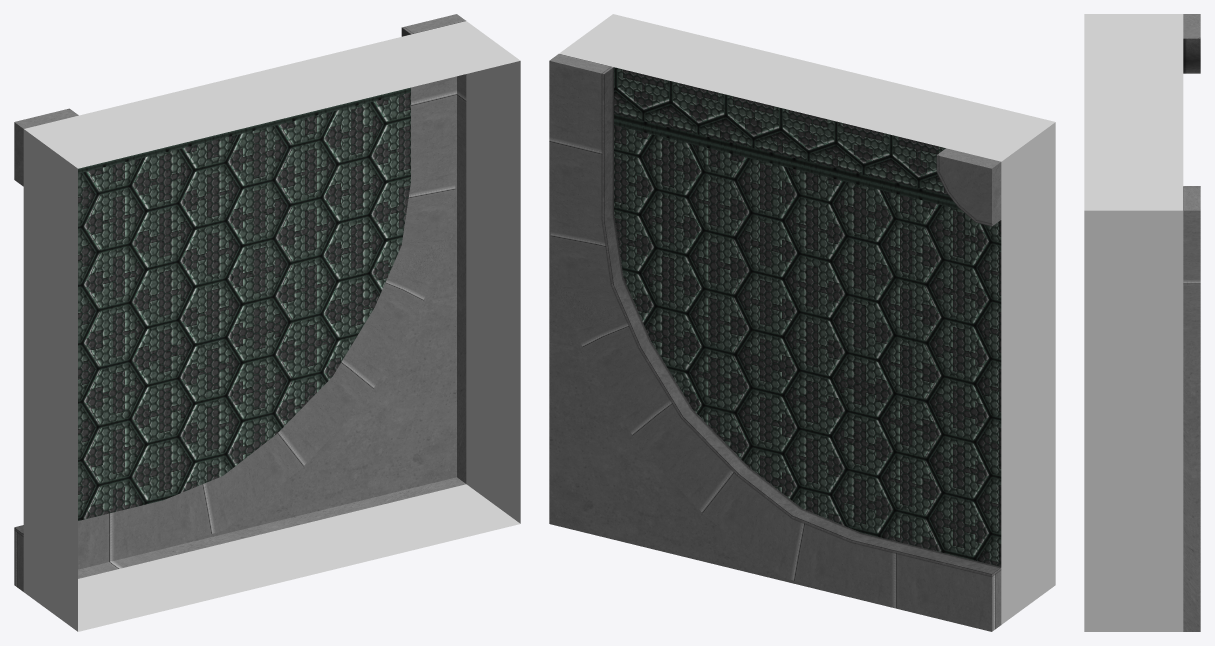
The model's file is OC_road_90_degree_turn.fbx.
The picture shows the model from 3 angles, left to right: view 1: azimuth 30°, elevation 25°; view 2: azimuth 150°, elevation 25°; view 3: azimuth 270°, elevation 25°; orthographic projection. The views are drawn at different scales.
Visible parts, largest first — view 1: OC_road_90_degree_turn; view 2: OC_road_90_degree_turn; view 3: OC_road_90_degree_turn.
Boxes of the visible parts, x1,y1,x2,y2 form: OC_road_90_degree_turn: (14,14,520,631); OC_road_90_degree_turn: (549,14,1055,631); OC_road_90_degree_turn: (1084,14,1200,631).
Size of the model in its own units: 4 by 4 by 1.
